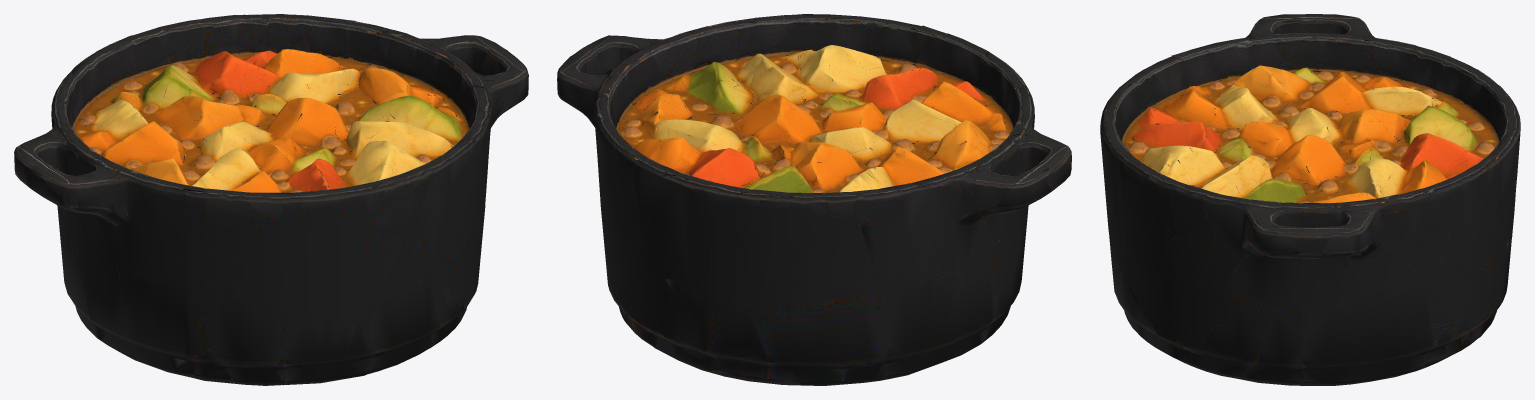
Rendered from stove_pot.glb.
The picture shows the model from 3 angles, left to right: view 1: azimuth 30°, elevation 25°; view 2: azimuth 150°, elevation 25°; view 3: azimuth 270°, elevation 25°; orthographic projection. The views are drawn at different scales.
Parts seen in each view (by area): view 1: Mesh_0; view 2: Mesh_0; view 3: Mesh_0.
Boxes of the visible parts, bbox=[...] form: Mesh_0: bbox=[14, 14, 528, 385]; Mesh_0: bbox=[557, 14, 1071, 385]; Mesh_0: bbox=[1100, 14, 1520, 385].
Bounding box in the file's own units: 1 × 0.4092 × 0.7983.
1 material, 1 textured.
